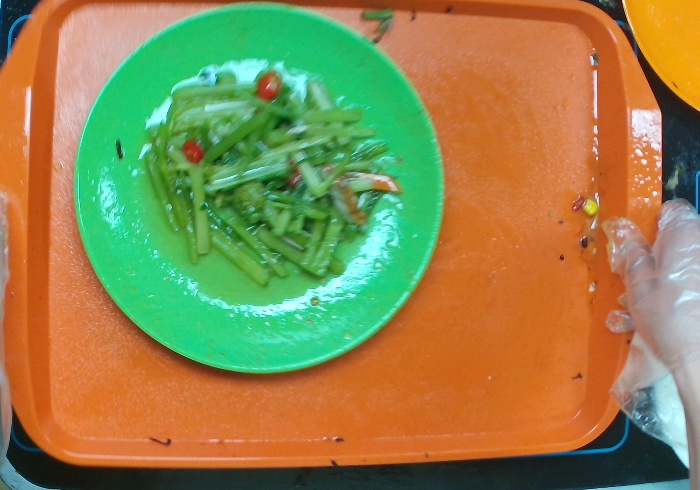HZYJPL-Lv_Se_Yuan_Pan: (69, 3, 446, 378)
